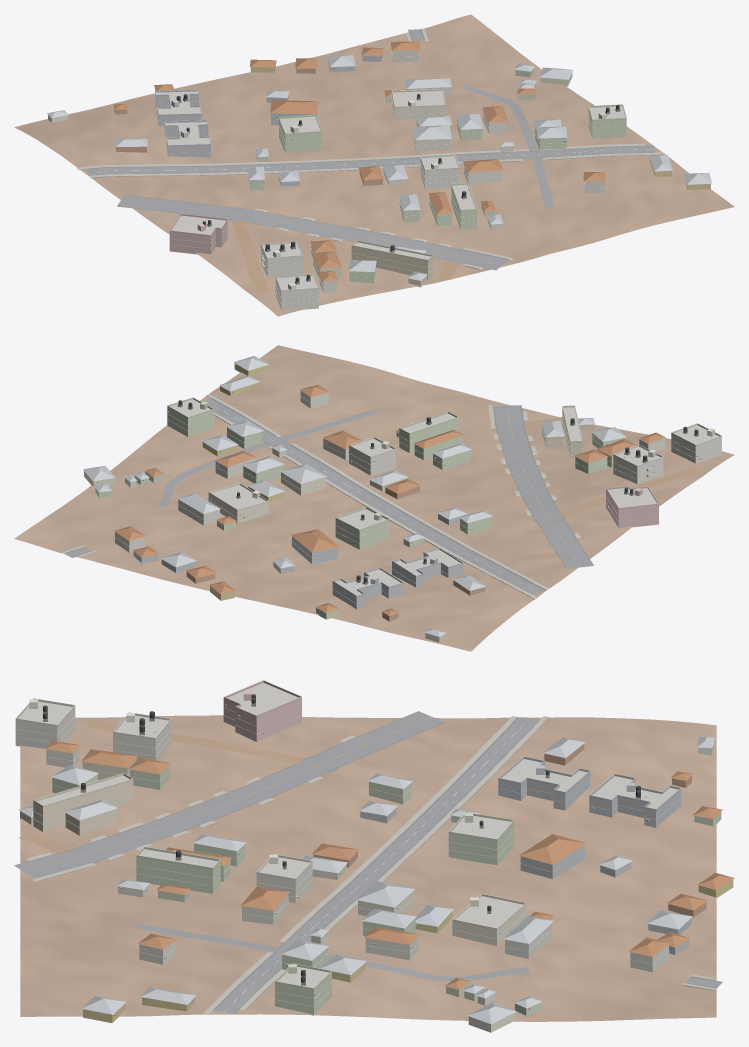
3 renders of one model, top to bottom at view 1: azimuth 30°, elevation 25°; view 2: azimuth 150°, elevation 25°; view 3: azimuth 270°, elevation 25°, orthographic. The views are drawn at different scales.
Visible parts, largest first — view 1: Terrain-col, Buildings-col, Roads-col, Details, Sidewalks-col; view 2: Terrain-col, Buildings-col, Roads-col, Details, Sidewalks-col; view 3: Terrain-col, Buildings-col, Roads-col, Details, Sidewalks-col.
Part boxes in pixels (x1,y1,x2,y2): Terrain-col: (14, 14, 734, 316); Buildings-col: (47, 41, 711, 310); Roads-col: (87, 29, 655, 292); Details: (155, 51, 650, 304); Sidewalks-col: (77, 28, 664, 269); Terrain-col: (14, 345, 734, 651); Buildings-col: (83, 356, 721, 642); Roads-col: (64, 398, 701, 594); Details: (95, 364, 721, 603); Sidewalks-col: (62, 394, 580, 599); Terrain-col: (20, 715, 716, 1021); Buildings-col: (15, 682, 734, 1032); Roads-col: (14, 711, 722, 1013); Details: (15, 680, 681, 1016); Sidewalks-col: (26, 716, 715, 1014).
Bounding box in the file's own units: 274 × 18.39 × 265.
